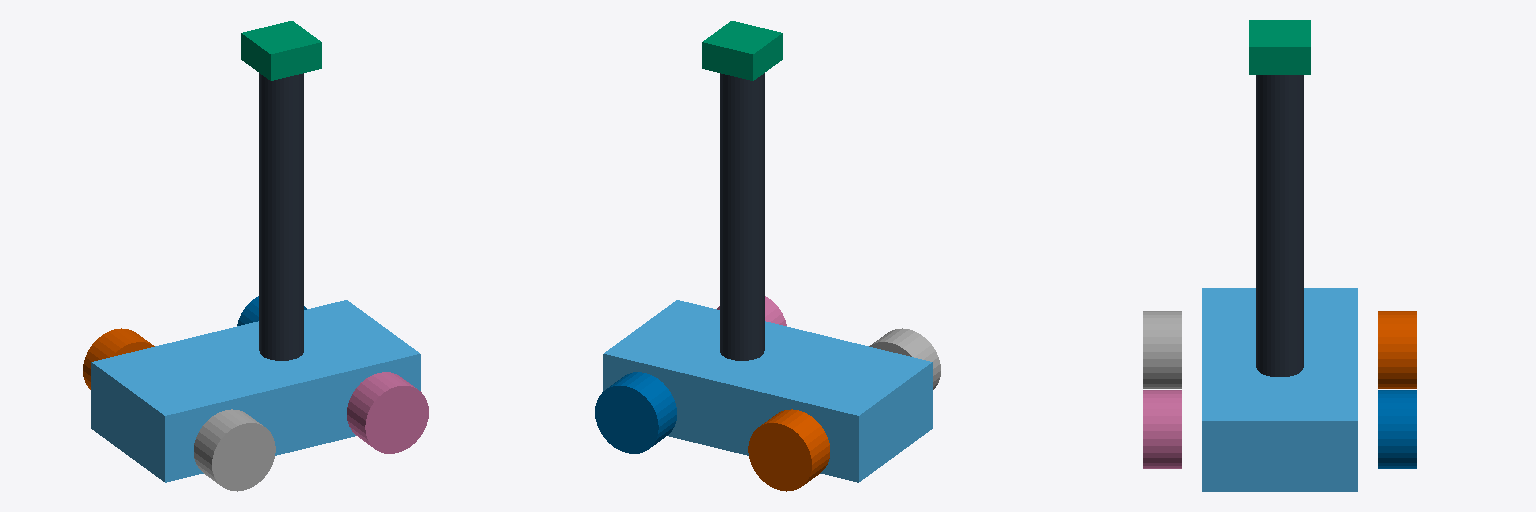
URDF robot description (yolobot):
<?xml version="1.0" ?>
<!-- =================================================================================== -->
<!-- |    This document was autogenerated by xacro from box_bot.xacro                  | -->
<!-- |    EDITING THIS FILE BY HAND IS NOT RECOMMENDED                                 | -->
<!-- =================================================================================== -->
<robot name="yolobot">
  <material name="black">
    <color rgba="0.0 0.0 0.0 1.0"/>
  </material>
  <material name="blue">
    <color rgba="0.203125 0.23828125 0.28515625 1.0"/>
  </material>
  <material name="green">
    <color rgba="0.0 0.8 0.0 1.0"/>
  </material>
  <material name="grey">
    <color rgba="0.2 0.2 0.2 1.0"/>
  </material>
  <material name="orange">
    <color rgba="1.0 0.423529411765 0.0392156862745 1.0"/>
  </material>
  <material name="brown">
    <color rgba="0.870588235294 0.811764705882 0.764705882353 1.0"/>
  </material>
  <material name="red">
    <color rgba="0.80078125 0.12890625 0.1328125 1.0"/>
  </material>
  <material name="white">
    <color rgba="1.0 1.0 1.0 1.0"/>
  </material>
  <gazebo reference="chassis">
    <material>Gazebo/Blue</material>
  </gazebo>
    <gazebo reference="front_left_wheel">
    <kp>1000.0</kp>
    <kd>1000.0</kd>
    <mu1>0.5</mu1>
    <mu2>0.5</mu2>
    <material>Gazebo/Black</material>
  </gazebo>
  <gazebo reference="front_right_wheel">
    <kp>1000.0</kp>
    <kd>1000.0</kd>
    <mu1>0.5</mu1>
    <mu2>0.5</mu2>
    <material>Gazebo/Black</material>
  </gazebo>
  <gazebo reference="back_left_wheel">
    <kp>1000.0</kp>
    <kd>1000.0</kd>
    <mu1>0.5</mu1>
    <mu2>0.5</mu2>
    <material>Gazebo/Black</material>
  </gazebo>
  <gazebo reference="back_right_wheel">
    <kp>1000.0</kp>
    <kd>1000.0</kd>
    <mu1>0.5</mu1>
    <mu2>0.5</mu2>
    <material>Gazebo/Black</material>
  </gazebo>
    <gazebo reference="column_link">
    <kp>1000.0</kp>
    <kd>1000.0</kd>
    <mu1>0.5</mu1>
    <mu2>0.5</mu2>
    <material>Gazebo/Grey</material>
  </gazebo>
  <!-- ros_control plugin -->
  <gazebo>
    <plugin filename="libgazebo_ros_control.so" name="gazebo_ros_control">
      <robotNamespace>/yolobot</robotNamespace>
      <robotParam>/robot_description</robotParam>
      <robotSimType>gazebo_ros_control/DefaultRobotHWSim</robotSimType>
    </plugin>
    </gazebo>
    
	<gazebo>
		<plugin name="my_robo" filename="libgazebo_ros_planar_move.so">
      		<commandTopic>cmd_vel</commandTopic>
      		<odometryTopic>odom</odometryTopic>
      		<odometryFrame>odom</odometryFrame>
      		<odometryRate>20.0</odometryRate>
      		<robotBaseFrame>base_foorprint</robotBaseFrame>
			<publishTF>true</publishTF>
    	</plugin>
  </gazebo>

  <link name="robot_footprint">
  	</link>

 <link name="chassis">
    <!-- pose and inertial -->
    <pose>0 0 0.1 0 0 0</pose>
    <inertial>
      <mass value="15.0"/>
      <origin xyz="0.0 0 0" rpy=" 0 0 0"/>
      <inertia ixx="0.1" ixy="0" ixz="0" iyy="0.1" iyz="0" izz="0.1" />
    </inertial>
    
    <!-- body -->
    <collision name='collision'>
      <origin xyz="0 0 0" rpy=" 0 0 0"/>
      <geometry>
        <box size=".4 .2 .1"/>
      </geometry>
    </collision>
    
    <visual name='chassis_visual'>
      <origin xyz="0 0 0" rpy=" 0 0 0"/>
      <geometry>
        <box size=".4 .2 .1"/>
      </geometry>
    </visual>
  </link>
  
   <joint name="robot_footprint_joint" type="fixed">
    <origin xyz="0 0 0" rpy="0 0 0" />
    <parent link="robot_footprint"/>
    <child link="chassis" />
  </joint>
  


  <!-- CAMERA-->
  <link name='rgb_cam_camera_link'>
		<visual>
			<origin xyz="0 0 0" rpy="0 0 0"/>

			<geometry>
				
				<box size="0.08 0.08 0.04"/>
			</geometry>
		</visual>
	</link>

  <joint name="rgb_cam_camera_link_joint" type="fixed">
		<origin rpy="0 0 0" xyz="0.04 0.0 0.5"/>
		<parent link="chassis"/>
		<child link="rgb_cam_camera_link"/>
	</joint>


    <link name="rgb_cam_camera_link_frame">
    </link>

    <joint name="rgb_cam_camera_frame_joint" type="fixed">
        <origin xyz="0.01 0 0" rpy="0 0 0" />
        <parent link="rgb_cam_camera_link" />
        <child link="rgb_cam_camera_link_frame" />
        <axis xyz="0 0 0"/>
    </joint>


    <gazebo reference="rgb_cam_camera_link_frame">
      <sensor type="camera" name="rgb_cam">
        <always_on>1</always_on>
        <update_rate>10.0</update_rate>
        <camera name="rgb_cam">
            <pose>0 0 0 0 0 0</pose>
            <horizontal_fov>1.3962634</horizontal_fov>
            <image>
             <width>640</width>
             <height>480</height>
             <format>R8G8B8</format>
            </image>
            <clip>
                <near>0.005</near>
                <far>20.0</far>
            </clip>
        </camera>
        <plugin name="camera_controller" filename="libgazebo_ros_camera.so">
            <alwaysOn>true</alwaysOn>
            <updateRate>0.0</updateRate>
            <cameraName>rgb_cam</cameraName>
            <imageTopicName>image_raw</imageTopicName>
            <cameraInfoTopicName>camera_info</cameraInfoTopicName>
            <frameName>rgb_cam_camera_link_frame</frameName>
            <hackBaseline>0.07</hackBaseline>
            <distortionK1>0.0</distortionK1>
            <distortionK2>0.0</distortionK2>
            <distortionK3>0.0</distortionK3>
            <distortionT1>0.0</distortionT1>
            <distortionT2>0.0</distortionT2>
        </plugin>
      </sensor>
    </gazebo>

  <link name="front_left_wheel">
    <inertial>
      <mass value="5.0"/>
      <origin xyz="0.0 0 0" rpy=" 0 1.5707 1.5707"/>
      <inertia ixx="0.1" ixy="0" ixz="0" iyy="0.1" iyz="0" izz="0.1" />
    </inertial>

    <visual>
      <origin xyz="0.0 0 0" rpy=" 0 1.5707 1.5707"/>
      <geometry>
        <cylinder length="0.05" radius="0.05"/>
      </geometry>
    </visual>

    <collision>
      <origin xyz="0.0 0 0" rpy=" 0 1.5707 1.5707"/>
      <geometry>
        <cylinder length="0.05" radius="0.05"/>
      </geometry>
    </collision>
  </link>

  <link name="back_left_wheel">
    <inertial>
      <mass value="5.0"/>
      <origin xyz="0.0 0 0" rpy=" 0 1.5707 1.5707"/>
      <inertia ixx="0.1" ixy="0" ixz="0" iyy="0.1" iyz="0" izz="0.1" />
    </inertial>

    <visual>
      <origin xyz="0.0 0 0" rpy=" 0 1.5707 1.5707"/>
      <geometry>
        <cylinder length="0.05" radius="0.05"/>
      </geometry>
    </visual>

    <collision>
      <origin xyz="0.0 0 0" rpy=" 0 1.5707 1.5707"/>
      <geometry>
        <cylinder length="0.05" radius="0.05"/>
      </geometry>
    </collision>
  </link>

  <link name="front_right_wheel">
    <inertial>
      <mass value="5.0"/>
      <origin xyz="0.0 0 0" rpy=" 0 1.5707 1.5707"/>
      <inertia ixx="0.1" ixy="0" ixz="0" iyy="0.1" iyz="0" izz="0.1" />
    </inertial>

    <visual>
      <origin xyz="0.0 0 0" rpy=" 0 1.5707 1.5707"/>
      <geometry>
        <cylinder length="0.05" radius="0.05"/>
      </geometry>
    </visual>

    <collision>
      <origin xyz="0.0 0 0" rpy=" 0 1.5707 1.5707"/>
      <geometry>
        <cylinder length="0.05" radius="0.05"/>
      </geometry>
    </collision>
  </link>

  <link name="back_right_wheel">
    <inertial>
      <mass value="5.0"/>
      <origin xyz="0.0 0 0" rpy=" 0 1.5707 1.5707"/>
      <inertia ixx="0.1" ixy="0" ixz="0" iyy="0.1" iyz="0" izz="0.1" />
    </inertial>

    <visual>
      <origin xyz="0.0 0 0" rpy=" 0 1.5707 1.5707"/>
      <geometry>
        <cylinder length="0.05" radius="0.05"/>
      </geometry>
    </visual>

    <collision>
      <origin xyz="0.0 0 0" rpy=" 0 1.5707 1.5707"/>
      <geometry>
        <cylinder length="0.05" radius="0.05"/>
      </geometry>
    </collision>
  </link>
      <link name="column_link">
       <mass  value="5.0" />
          <origin xyz="0 0 0" rpy="0 0 0"/>
       <inertia ixx="0.1" ixy="0" ixz="0" iyy="0.1" iyz="0" izz="0.1" />
        <visual>
        <origin xyz="0 0 0" rpy="0 0 0"/>
            <geometry>
                <cylinder radius="0.03" length="0.45"/>
            </geometry>
            <material name="blue"/>
        </visual>
        <collision>
        <origin xyz="0 0 0" rpy="0 0 0"/>
            <geometry>
                <cylinder radius="0.03" length="0.45"/>
            </geometry>
        </collision>
       
    </link>
    
        <joint type="fixed" name="column_link_joint">
    <origin xyz="0.04 0 0.265" rpy="0 0 0"/>
    <child link="column_link"/>
    <parent link="chassis"/>
    <axis xyz="0 1 0" rpy="0 0 0"/>
    <limit effort="10000" velocity="1000"/>
    <dynamics damping="1.0" friction="1.0"/>
  </joint>
    
    <joint type="continuous" name="front_left_wheel_joint">
    <origin xyz="0.12 0.15 0" rpy="0 0 0"/>
    <child link="front_left_wheel"/>
    <parent link="chassis"/>
    <axis xyz="0 1 0" rpy="0 0 0"/>
    <limit effort="10000" velocity="1000"/>
    <dynamics damping="1.0" friction="1.0"/>
  </joint>

  <joint type="continuous" name="front_right_wheel_joint">
    <origin xyz="0.12 -0.15 0" rpy="0 0 0"/>
    <child link="front_right_wheel"/>
    <parent link="chassis"/>
    <axis xyz="0 1 0" rpy="0 0 0"/>
    <limit effort="10000" velocity="1000"/>
    <dynamics damping="1.0" friction="1.0"/>
  </joint>

  <joint type="continuous" name="back_left_wheel_joint">
    <origin xyz="-0.12 0.15 0" rpy="0 0 0"/>
    <child link="back_left_wheel"/>
    <parent link="chassis"/>
    <axis xyz="0 1 0" rpy="0 0 0"/>
    <limit effort="10000" velocity="1000"/>
    <dynamics damping="1.0" friction="1.0"/>
  </joint>

  <joint type="continuous" name="back_right_wheel_joint">
    <origin xyz="-0.12 -0.15 0" rpy="0 0 0"/>
    <child link="back_right_wheel"/>
    <parent link="chassis"/>
    <axis xyz="0 1 0" rpy="0 0 0"/>
    <limit effort="10000" velocity="1000"/>
    <dynamics damping="1.0" friction="1.0"/>
  </joint>

</robot>

--- Facts derived from the render (not from the file) ---
The picture shows the robot from 3 angles, left to right: view 1: azimuth 30°, elevation 25°; view 2: azimuth 150°, elevation 25°; view 3: azimuth 270°, elevation 25°; orthographic projection.
Model yolobot with 9 links and 8 joints (4 continuous, 4 fixed), rooted at robot_footprint, posed all joints at 0.
Links seen in each view (by area): view 1: chassis, column_link, front_right_wheel, back_right_wheel, rgb_cam_camera_link, back_left_wheel; view 2: chassis, column_link, front_left_wheel, back_left_wheel, rgb_cam_camera_link, back_right_wheel; view 3: chassis, column_link, rgb_cam_camera_link, front_left_wheel, front_right_wheel, back_left_wheel, back_right_wheel.
Link boxes in pixels (<box>): chassis: <box>91,300,420,482</box>; column_link: <box>259,73,303,360</box>; front_right_wheel: <box>347,372,428,453</box>; back_right_wheel: <box>194,409,275,491</box>; rgb_cam_camera_link: <box>241,21,321,80</box>; back_left_wheel: <box>83,328,154,389</box>; chassis: <box>603,300,932,482</box>; column_link: <box>720,73,764,360</box>; front_left_wheel: <box>595,372,676,453</box>; back_left_wheel: <box>748,409,829,491</box>; rgb_cam_camera_link: <box>702,21,782,80</box>; back_right_wheel: <box>869,328,940,389</box>; chassis: <box>1202,288,1357,491</box>; column_link: <box>1256,75,1303,376</box>; rgb_cam_camera_link: <box>1249,20,1310,74</box>; front_left_wheel: <box>1378,390,1416,468</box>; front_right_wheel: <box>1143,390,1181,468</box>; back_left_wheel: <box>1378,311,1416,388</box>; back_right_wheel: <box>1143,311,1181,388</box>.
Bounding box of the posed robot: 0.4 × 0.35 × 0.57 m (x, y, z).
Geometry: primitives only (box / cylinder / sphere), no mesh files.